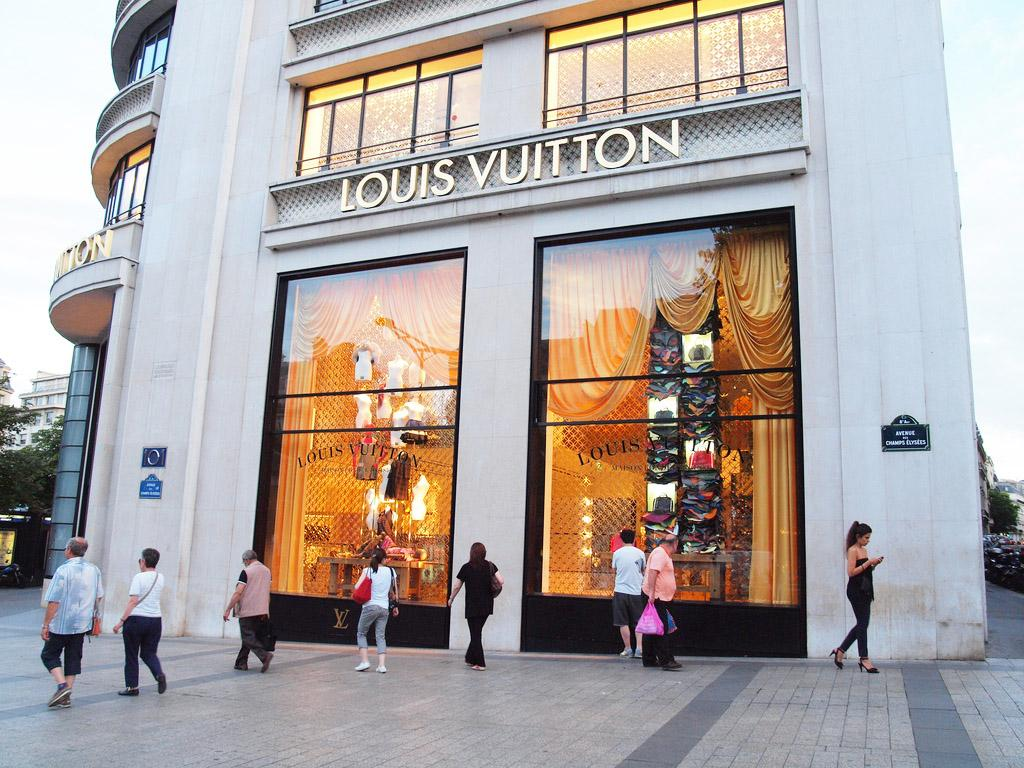LOUIS-VUITTON: (329, 605, 351, 630)
